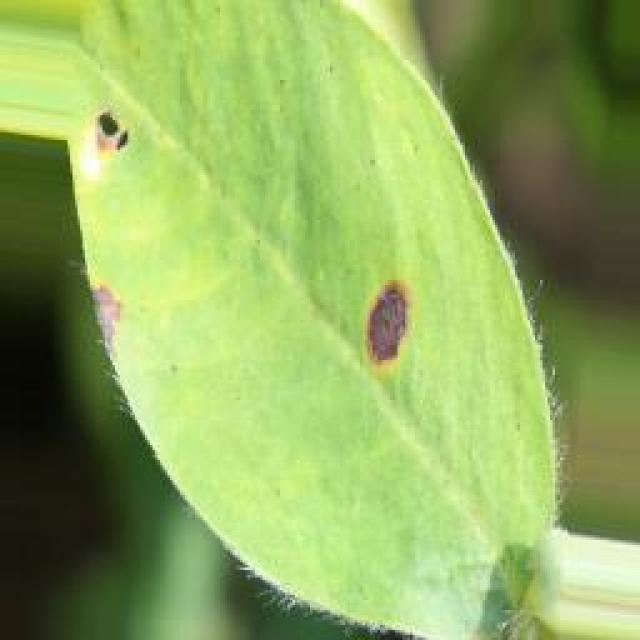Early_leaf_spot: (68, 242, 152, 379), (75, 92, 160, 197), (348, 274, 416, 370)
